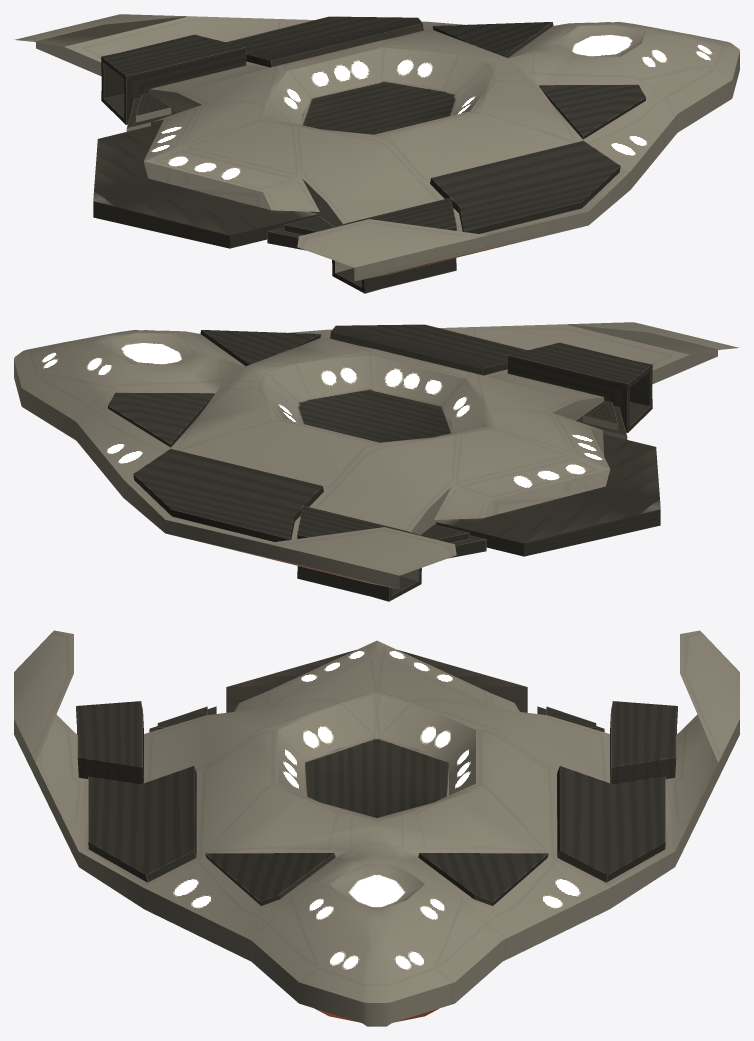
Rendered from Delta III.fbx.
The picture shows the model from 3 angles, top to bottom: view 1: azimuth 30°, elevation 25°; view 2: azimuth 150°, elevation 25°; view 3: azimuth 270°, elevation 25°; orthographic projection. The views are drawn at different scales.
Parts seen in each view (by area): view 1: Cube; view 2: Cube; view 3: Cube.
Boxes of the visible parts, x1,y1,x2,y2 form: Cube: (14,14,739,293); Cube: (14,322,739,601); Cube: (14,630,739,1026).
Bounding box in the file's own units: 120 × 16.5 × 103.
1 material, 1 textured.
